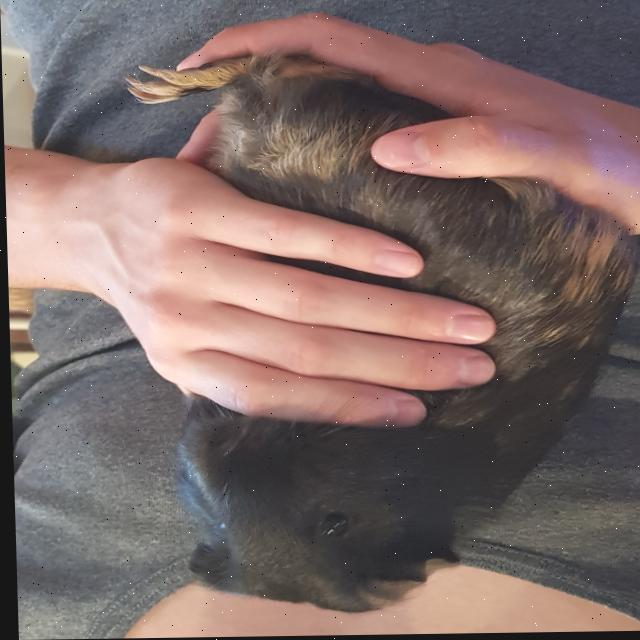guinea pig: (121, 51, 640, 622)
